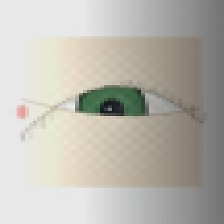pinguecula_lesion: (23, 97, 62, 129)
